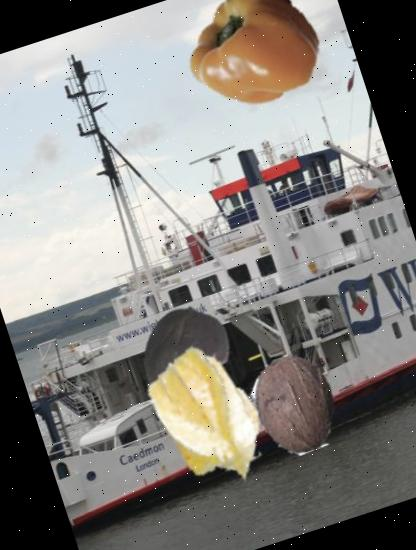Cocos: (233, 341, 359, 467)
Passion: (125, 294, 247, 416)
Pepper: (176, 0, 337, 126)
Physalis: (119, 326, 302, 510)
